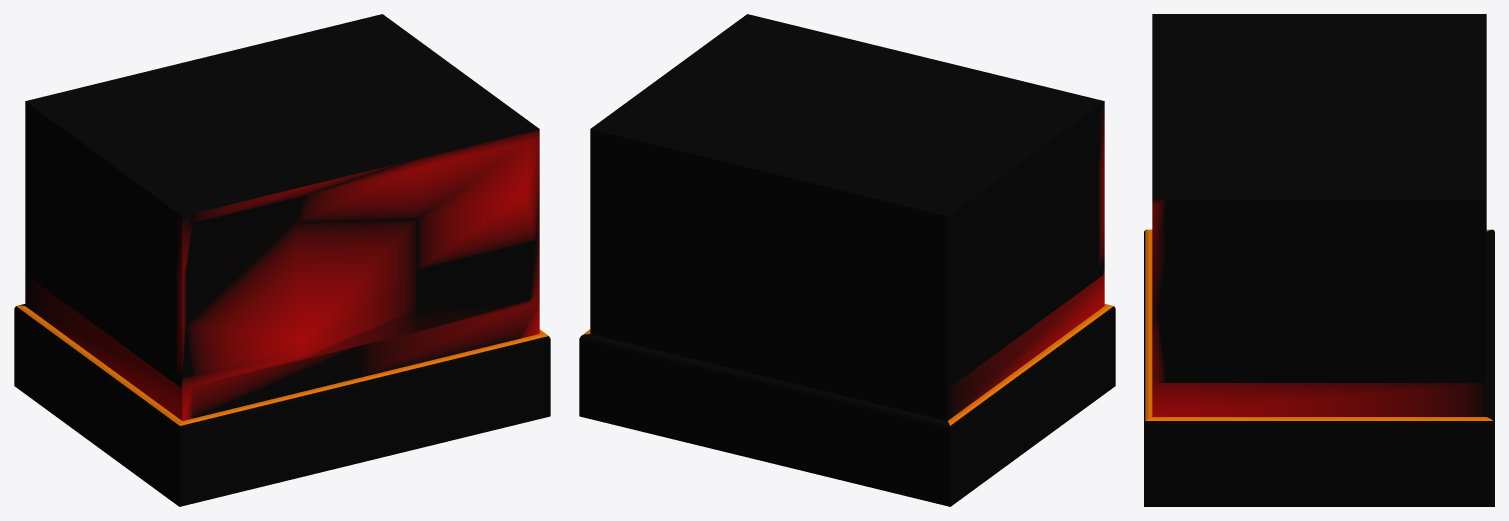
File: House2_collisionSetup.fbx
3 views of the same model, side by side, from view 1: azimuth 30°, elevation 25°; view 2: azimuth 150°, elevation 25°; view 3: azimuth 270°, elevation 25° (orthographic). The views are drawn at different scales.
Visible parts, largest first — view 1: collisionCube.010, collisionConvex.204; view 2: collisionCube.010, collisionConvex.204; view 3: collisionCube.010, collisionConvex.204.
Boxes of the visible parts, bbox=[...] form: collisionCube.010: bbox=[25, 14, 539, 420]; collisionConvex.204: bbox=[14, 304, 550, 506]; collisionCube.010: bbox=[590, 14, 1104, 420]; collisionConvex.204: bbox=[579, 304, 1115, 506]; collisionCube.010: bbox=[1152, 14, 1486, 416]; collisionConvex.204: bbox=[1144, 229, 1494, 506].
Bounding box in the file's own units: 1090 × 803 × 840.
